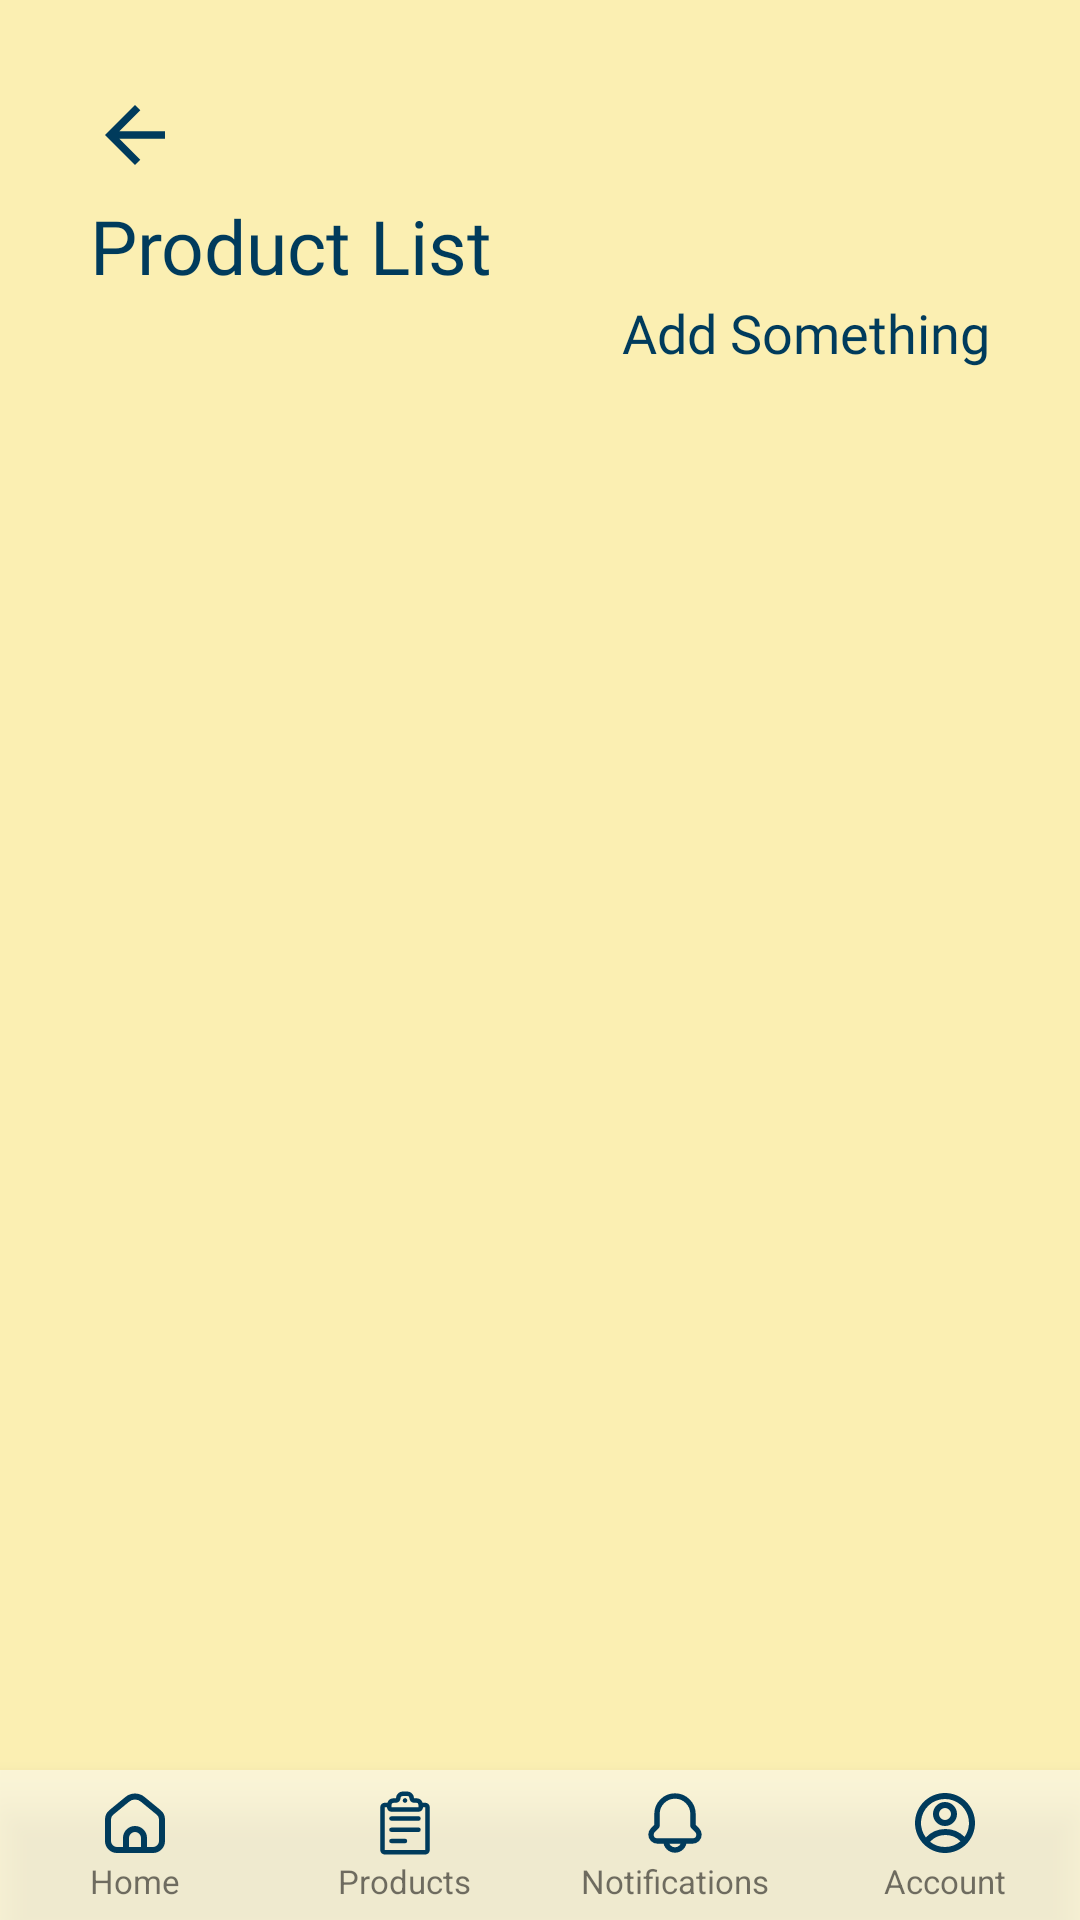

Icons on this 1080*1920 Android screen, each with the point to tap as [x,y]:
arrow back: [135,135]
list: [405,1823]
